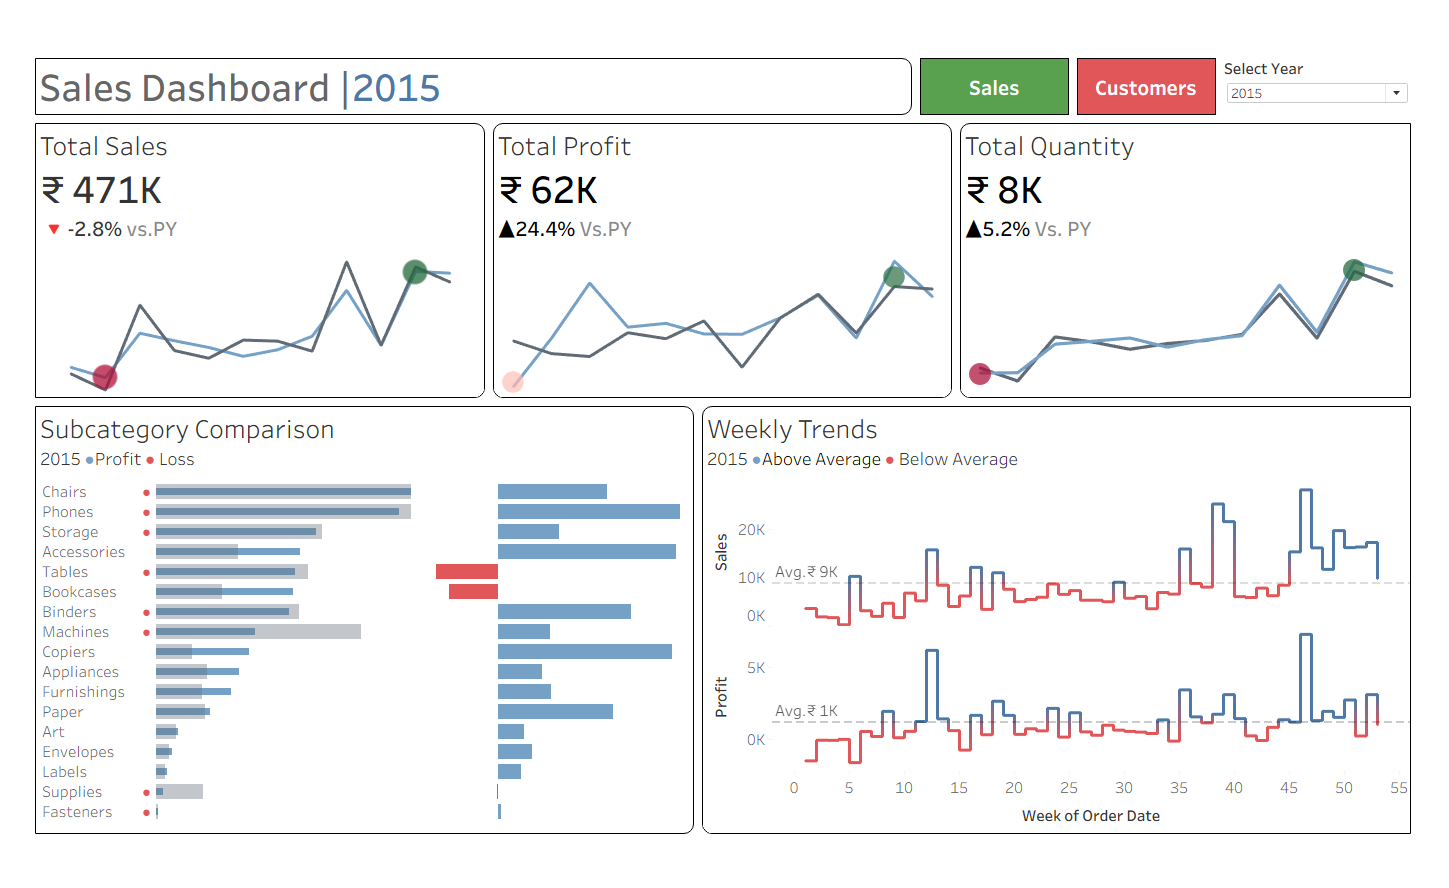

Layout of this report page (visuals, bound fields, positions):
{"tool":"tableau","page":{"name":"Sales Dashboard","canvas":[1400,800],"ordinal":1},"visuals":[{"type":"text","box":[8,8,885,65]},{"type":"dashboard-object","box":[893,8,157,65]},{"type":"dashboard-object","box":[1050,8,147,65]},{"type":"parameter","param":"[Parameters].[Parameter 0851597059166211]","box":[1197,8,195,56]},{"type":"worksheet","title":"KPI Sale","mark":"Automatic","rows":["Calculation_0851597067325445"],"cols":["Order Date"],"box":[8,73,458,283]},{"type":"worksheet","title":"KPI Profit","mark":"Automatic","rows":["Calculation_0851597089107979"],"cols":["Order Date"],"box":[466,73,467,283]},{"type":"worksheet","title":"KPI Quantity","mark":"Automatic","rows":["Calculation_0851597101404178"],"cols":["Order Date"],"box":[933,73,459,283]},{"type":"worksheet","title":"Subcategory Comparison","mark":"Bar","rows":["Sub-Category","Calculation_0851597112664087"],"cols":["Calculation_0851597058031616","Calculation_0851597058633729","Calculation_0851597088444424"],"box":[8,356,667.1,436]},{"type":"worksheet","title":"Weekly Trends","mark":"Automatic","rows":["Calculation_0851597058031616","Calculation_0851597088444424"],"cols":["Order Date"],"box":[675.1,356,716.9,436]}]}

Visuals, with their boxes on the page's 1400x800 design canvas (x1, y1, x2, y2). These are canvas units, not pixel positions in the 1449x888 screenshot, which may show the page scaled, cropped or inside an application window:
text: 8,8,893,73
dashboard-object: 893,8,1050,73
dashboard-object: 1050,8,1197,73
parameter: 1197,8,1392,64
"KPI Sale" worksheet: 8,73,466,356
"KPI Profit" worksheet: 466,73,933,356
"KPI Quantity" worksheet: 933,73,1392,356
"Subcategory Comparison" worksheet (Bar marks): 8,356,675,792
"Weekly Trends" worksheet: 675,356,1392,792
